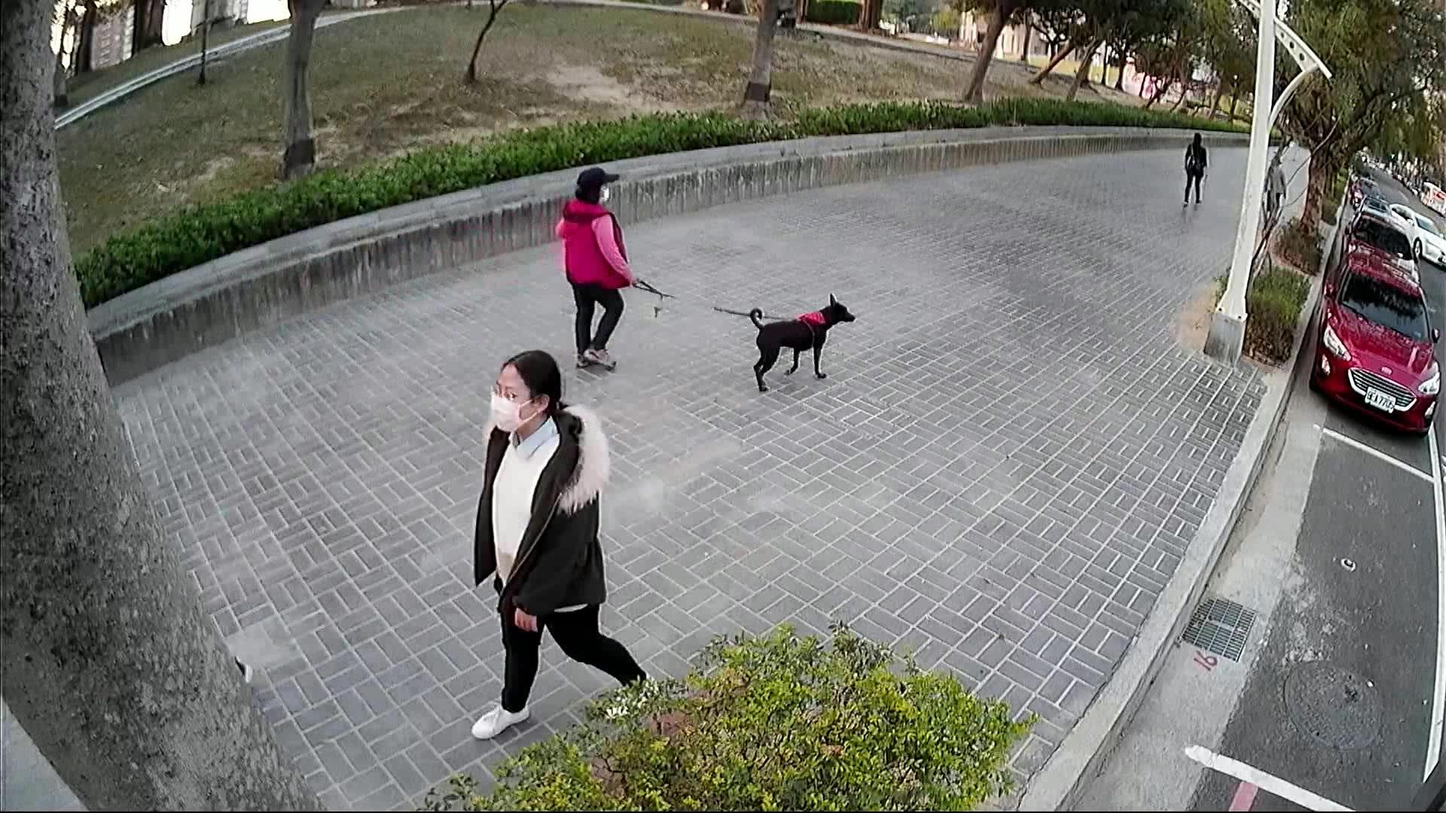person: (462, 341, 660, 746), (548, 159, 642, 369), (1173, 123, 1214, 212), (1256, 143, 1289, 242)
